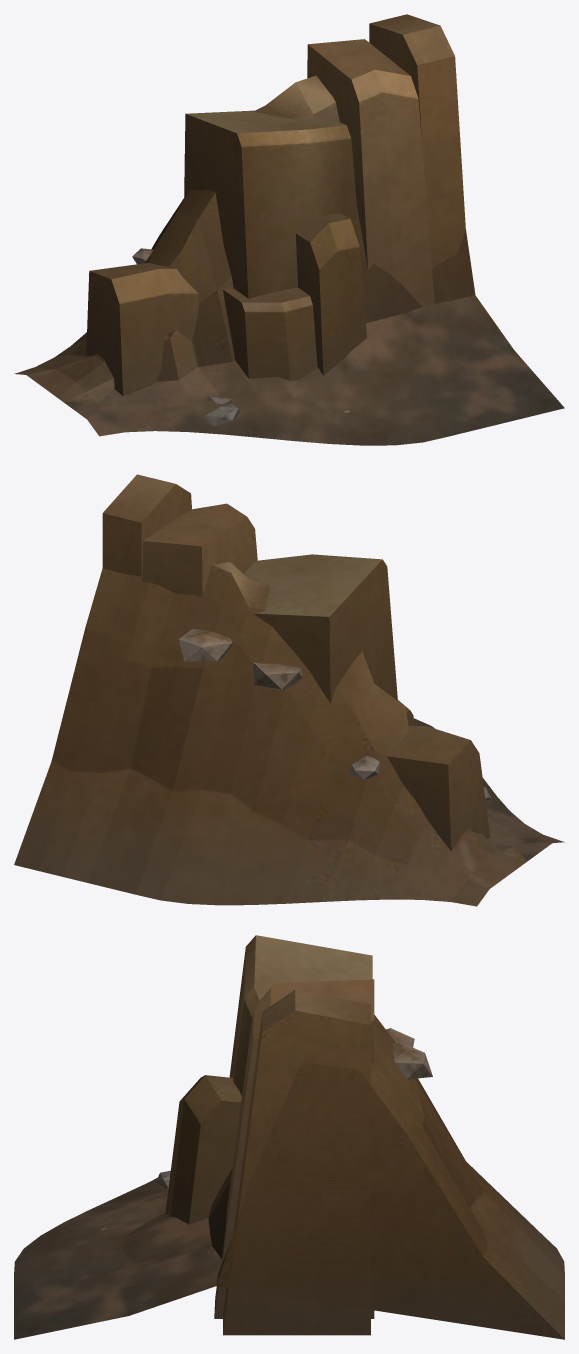
The model's file is cliff-entrance-1.glb.
3 renders of one model, top to bottom at view 1: azimuth 30°, elevation 25°; view 2: azimuth 150°, elevation 25°; view 3: azimuth 270°, elevation 25°, orthographic. The views are drawn at different scales.
Parts seen in each view (by area): view 1: cliff-entrance-1; view 2: cliff-entrance-1; view 3: cliff-entrance-1.
Boxes of the visible parts, x1,y1,x2,y2 form: cliff-entrance-1: [14, 14, 564, 445]; cliff-entrance-1: [14, 474, 564, 906]; cliff-entrance-1: [14, 935, 564, 1339].
Size of the model in its own units: 3 by 2.21 by 3.35.
Materials: 3 (3 with a texture image).
